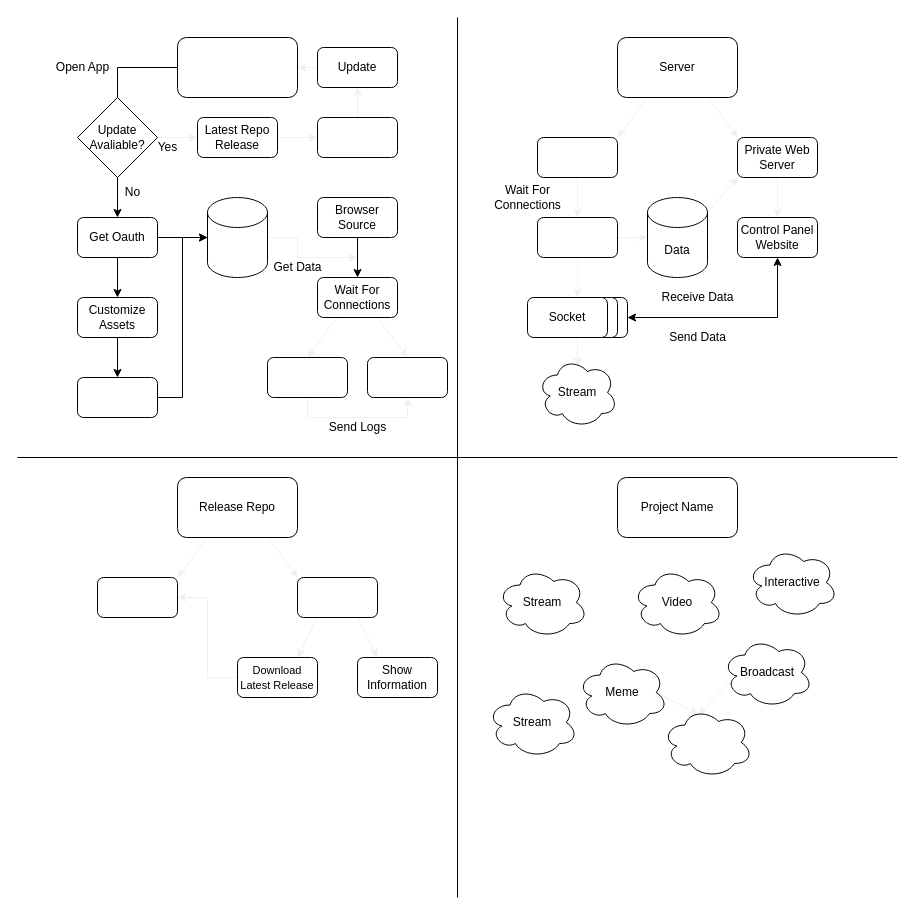
The diagram is 916 pixels wide and 916 high, and some of its shapes have lost their labels. Each missing label, with the centre of its shape:
"Client's App" belongs at (237,67).
"Config And Data" belongs at (237,237).
"Connection To Server" belongs at (407,377).
"Connection To Twitch" belongs at (307,377).
"Download Release" belongs at (357,137).
"Github Pages" belongs at (337,597).
"Memecast" belongs at (707,742).
"Public WebSocket Server" belongs at (577,157).
"Save Config To Files" belongs at (117,397).
"Socket Connected" belongs at (577,237).
"Store Client App Releases" belongs at (137,597).
